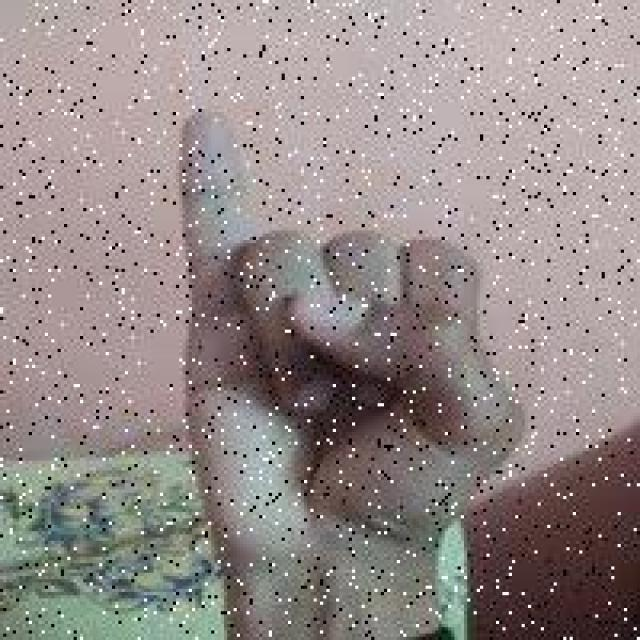I: (176, 104, 531, 629)
